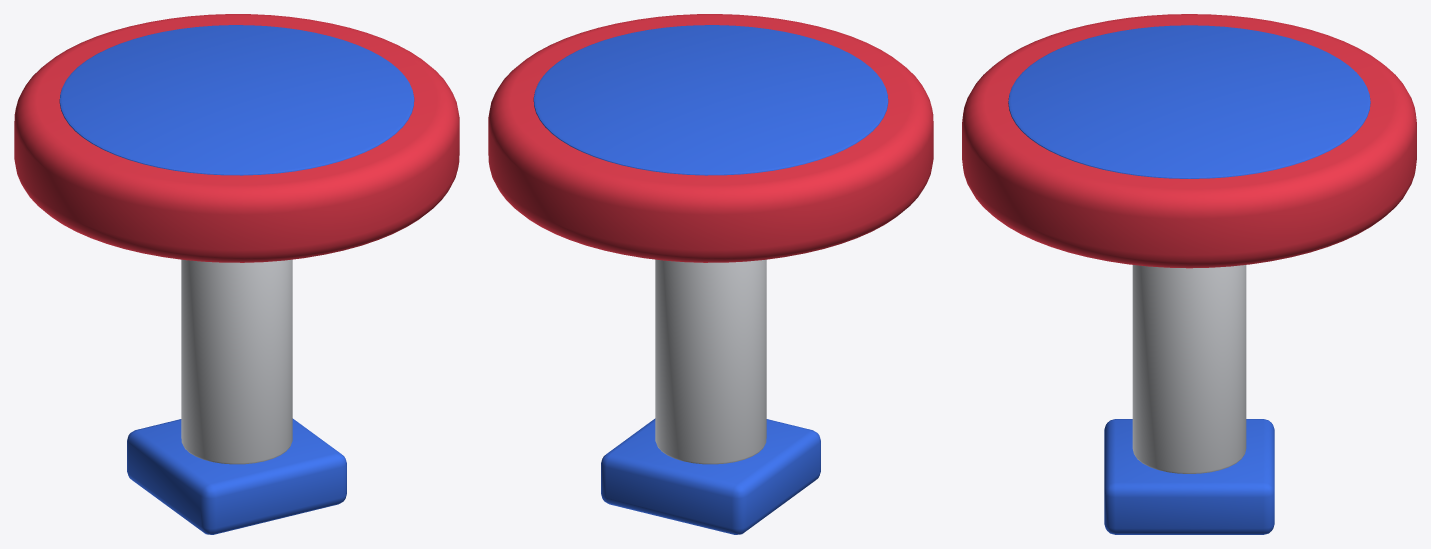
The model's file is SD_JumpPad_Small.fbx.
3 views of the same model, side by side, from view 1: azimuth 30°, elevation 25°; view 2: azimuth 150°, elevation 25°; view 3: azimuth 270°, elevation 25° (orthographic). The views are drawn at different scales.
Visible parts, largest first — view 1: JumpPad_Small; view 2: JumpPad_Small; view 3: JumpPad_Small.
Boxes of the visible parts, x1,y1,x2,y2 form: JumpPad_Small: [14, 14, 459, 534]; JumpPad_Small: [488, 14, 933, 534]; JumpPad_Small: [962, 14, 1416, 534].
Size of the model in its own units: 2.4 by 2.34 by 2.4.
